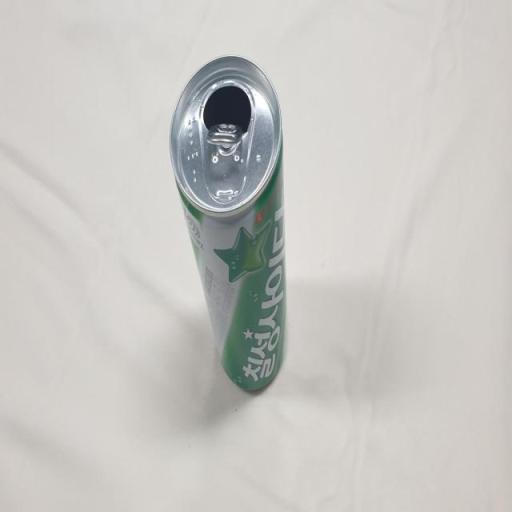metal: (161, 41, 309, 416)
